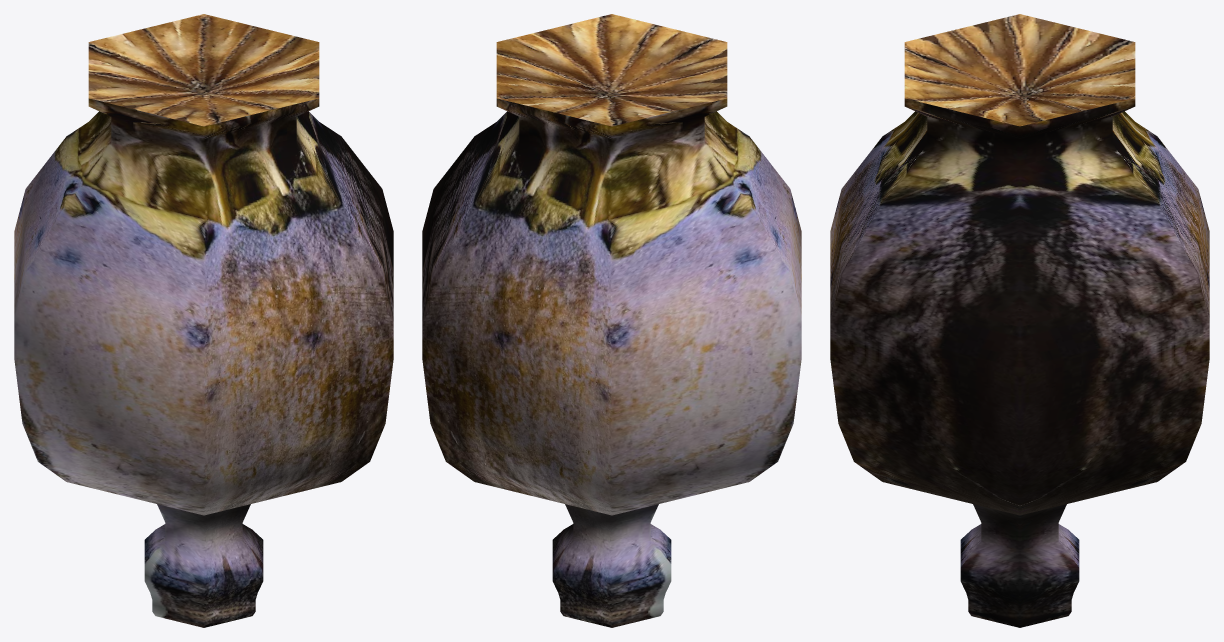
The model's file is Poppy_low.fbx.
3 renders of one model, left to right at view 1: azimuth 30°, elevation 25°; view 2: azimuth 150°, elevation 25°; view 3: azimuth 270°, elevation 25°, orthographic.
Parts seen in each view (by area): view 1: Group1; view 2: Group1; view 3: Group1.
Boxes of the visible parts, bbox=[...] form: Group1: bbox=[14, 14, 393, 627]; Group1: bbox=[422, 14, 801, 627]; Group1: bbox=[830, 14, 1209, 627].
Bounding box in the file's own units: 25.17 × 33.87 × 21.8.
